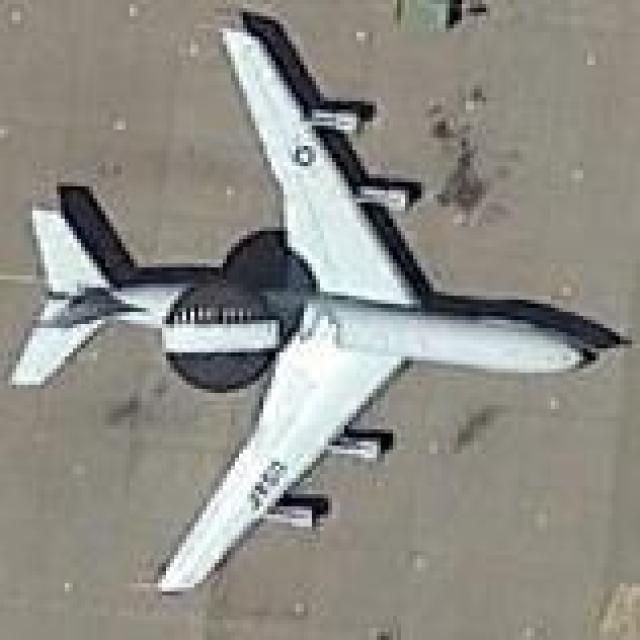E-3_TopDown: (4, 4, 632, 591)
